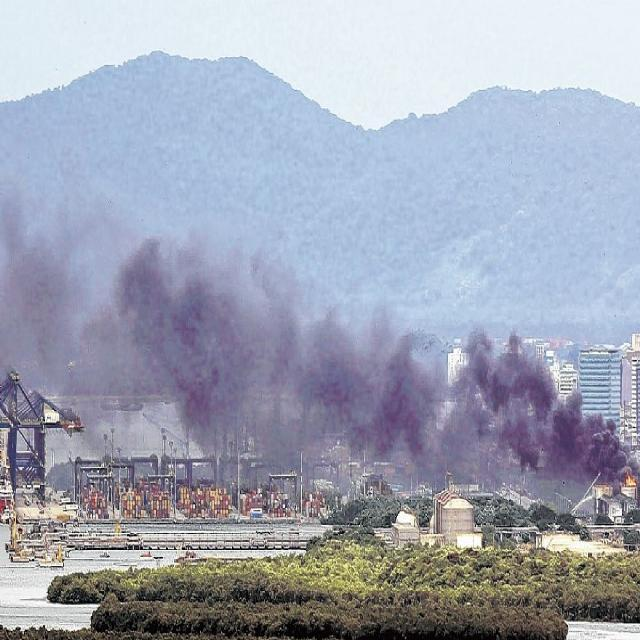Fire: (622, 466, 636, 494)
Smoke: (7, 173, 91, 380), (546, 389, 636, 484), (470, 331, 496, 406)
